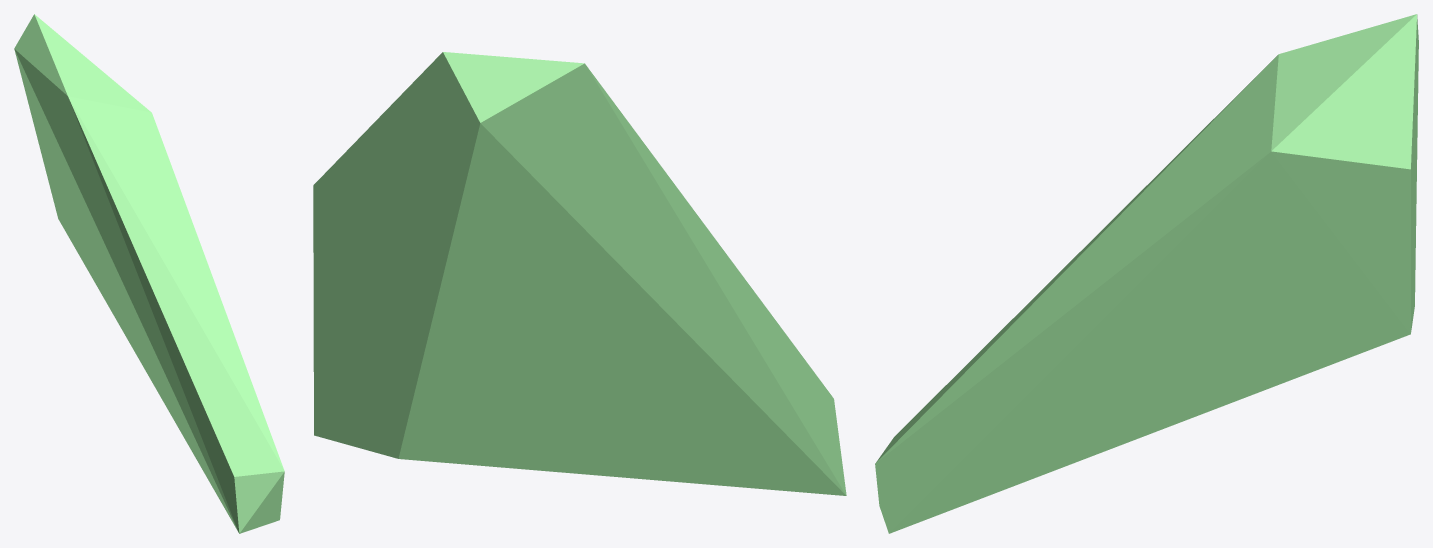
The model's file is dvkr_robot_L2_respondable_PSM2_coll_17.dae.
3 renders of one model, left to right at view 1: azimuth 30°, elevation 25°; view 2: azimuth 150°, elevation 25°; view 3: azimuth 270°, elevation 25°, orthographic. The views are drawn at different scales.
Visible parts, largest first — view 1: Node_0000023514CD6E10; view 2: Node_0000023514CD6E10; view 3: Node_0000023514CD6E10.
Boxes of the visible parts, left/top/right/bottom form: Node_0000023514CD6E10: left=14, top=14, right=284, bottom=533; Node_0000023514CD6E10: left=313, top=52, right=846, bottom=495; Node_0000023514CD6E10: left=875, top=14, right=1418, bottom=533.
Size of the model in its own units: 0.00945 by 0.0387 by 0.0389.
